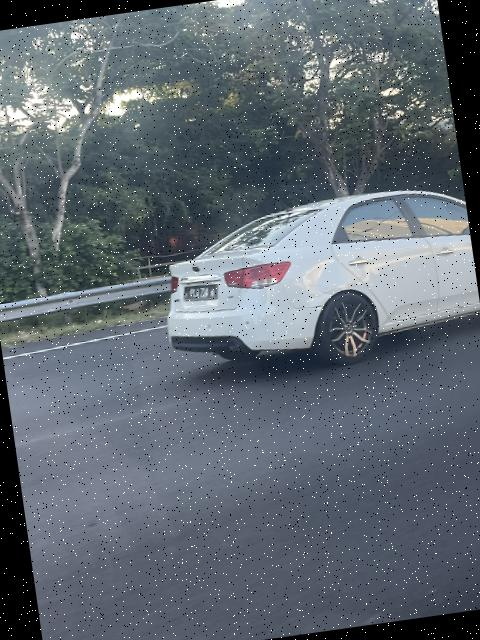License_Plate: (164, 269, 233, 319)
car: (140, 173, 480, 385)
